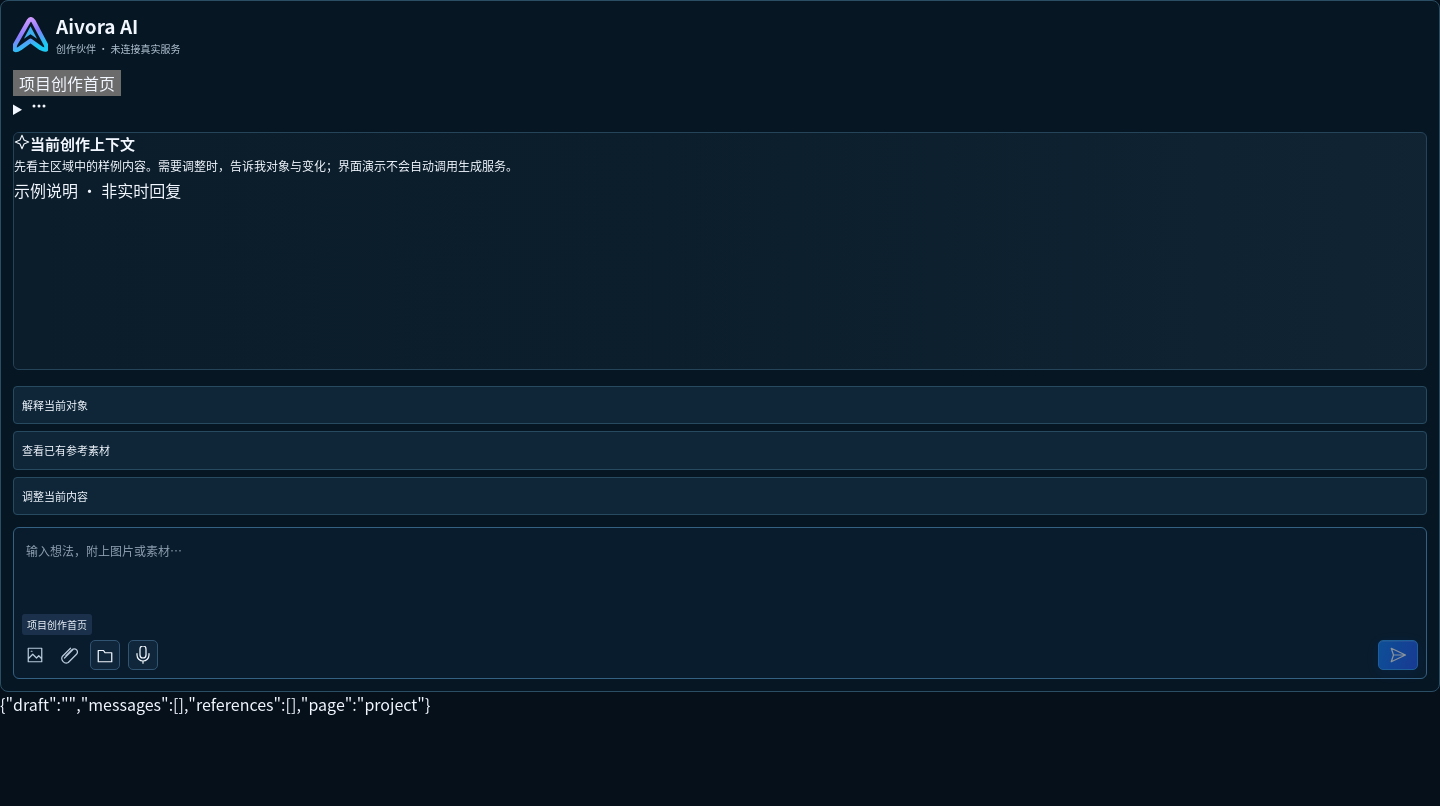
assistant panel local-only interaction › copies a suggestion into the draft and saves it as a local message
Click the button "解释当前对象" at (55, 405), box [13, 386, 1427, 424]
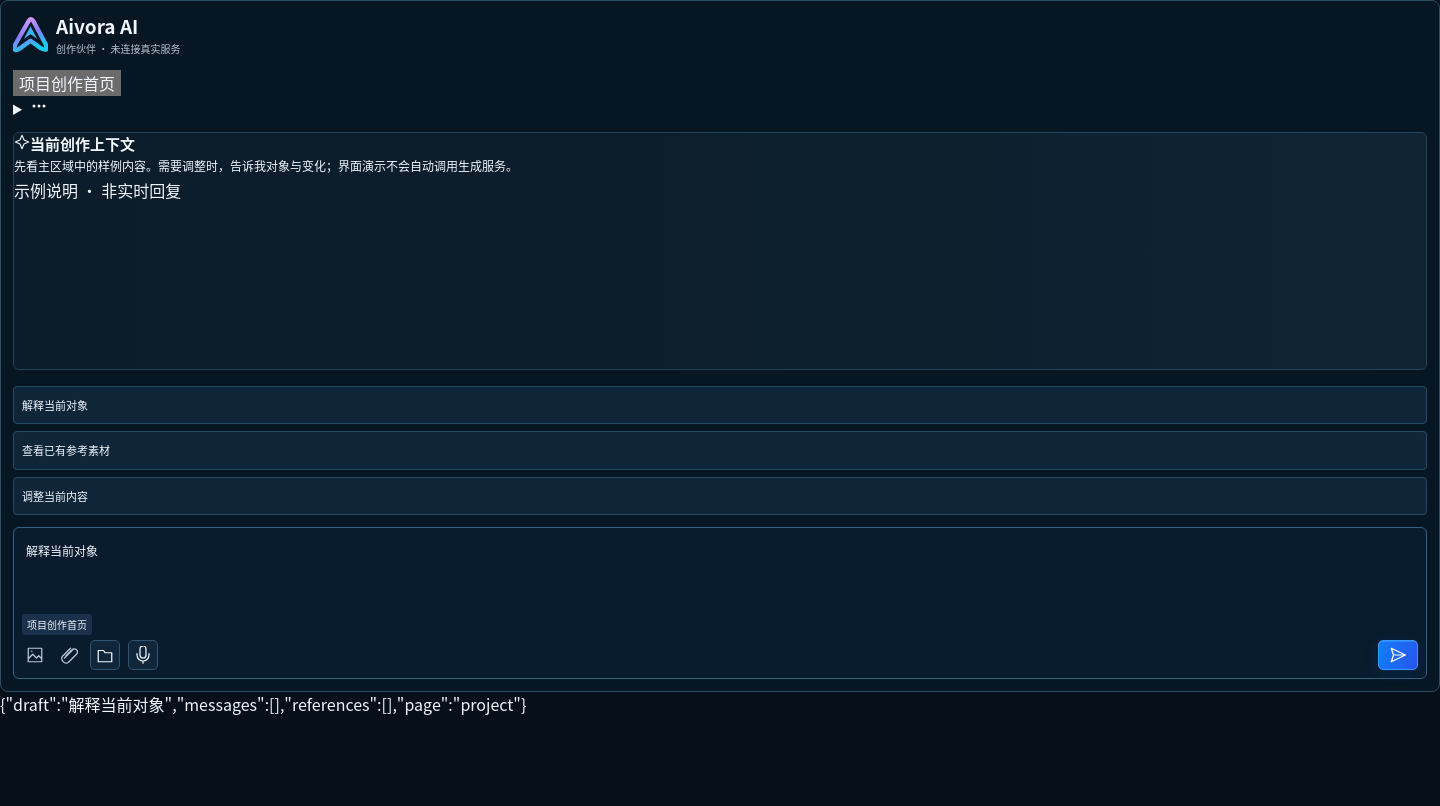
Expected: the text box named "AI 输入" holds "解释当前对象", [22, 536, 1418, 609]
Click the button named "发送消息" at (1398, 655), box [1378, 640, 1418, 670]
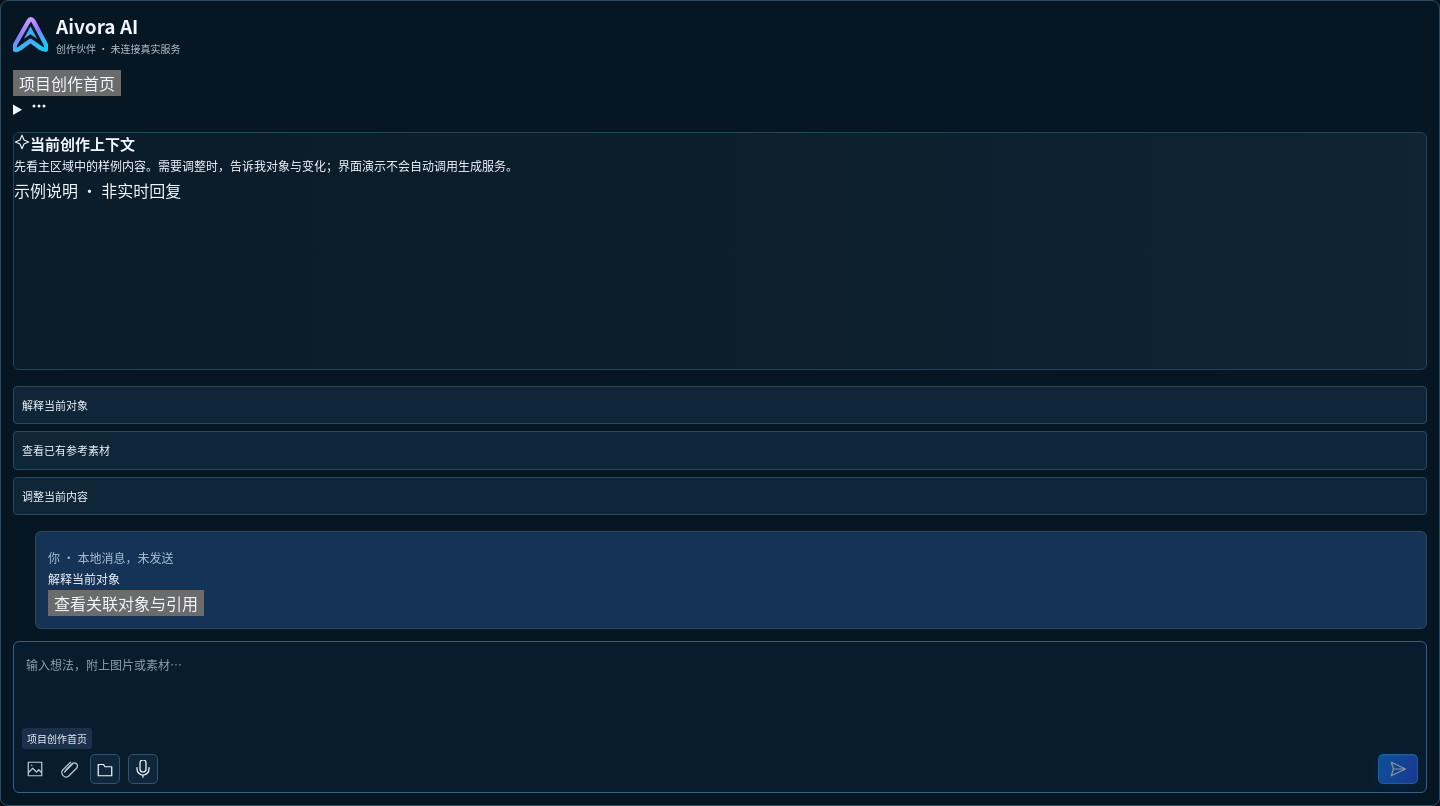
Expected: the text "你 · 本地消息，未发送" is shown, [48, 549, 173, 566]
Expected: the button "查看关联对象与引用" is shown, [48, 590, 204, 616]
